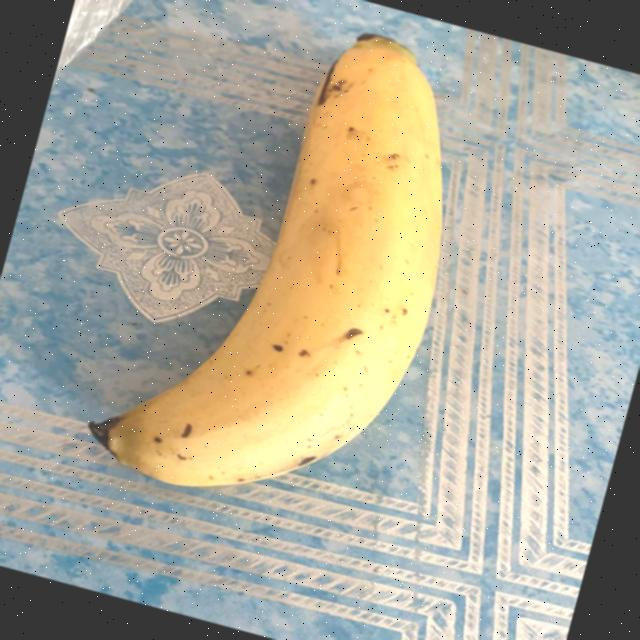Ripe: (74, 0, 622, 590)
